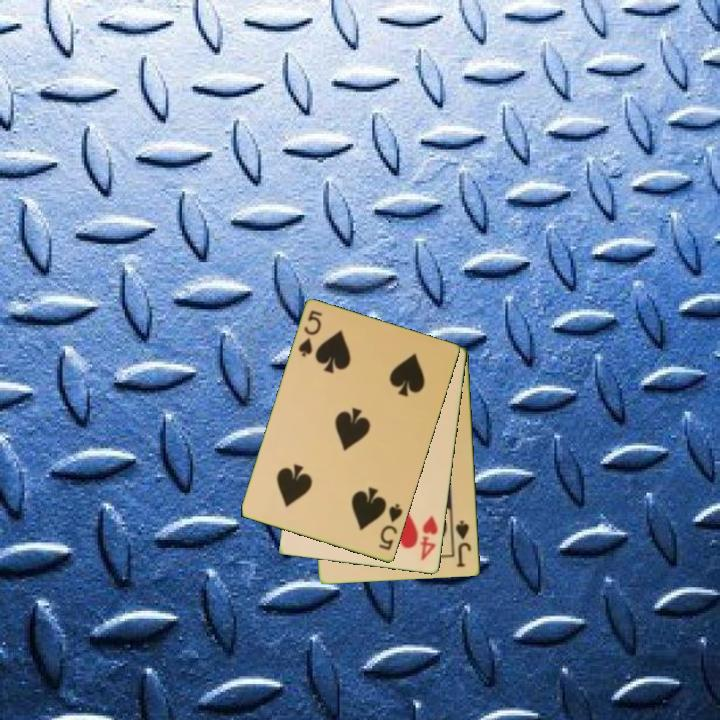4h: (417, 512, 441, 564)
5s: (375, 500, 406, 554), (295, 307, 325, 360)
Js: (452, 517, 474, 570)
